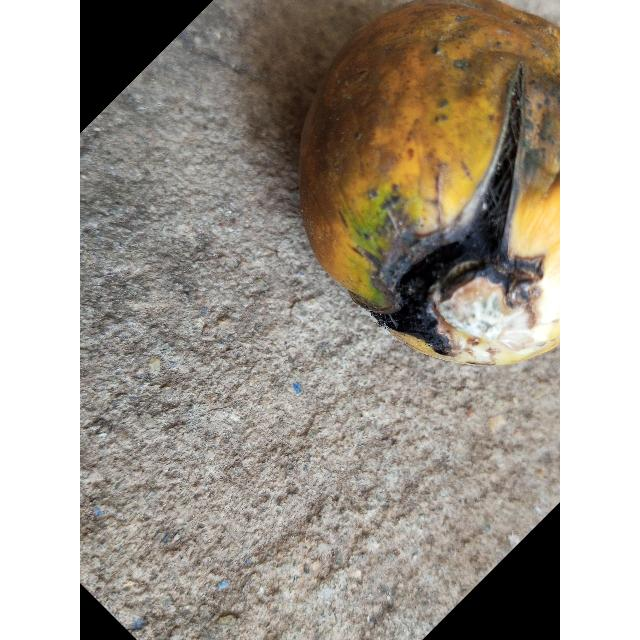damaged: (300, 0, 560, 365)
